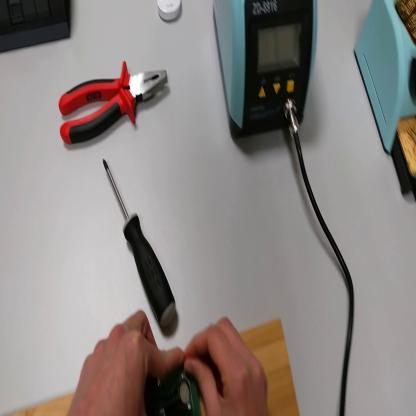hand: (69, 309, 183, 413), (185, 323, 269, 414)
pliers: (54, 58, 169, 159)
screwdriver-: (104, 163, 182, 348)
welder base: (352, 4, 416, 200)
welder station: (215, 4, 321, 145)
working area: (3, 314, 299, 416)
